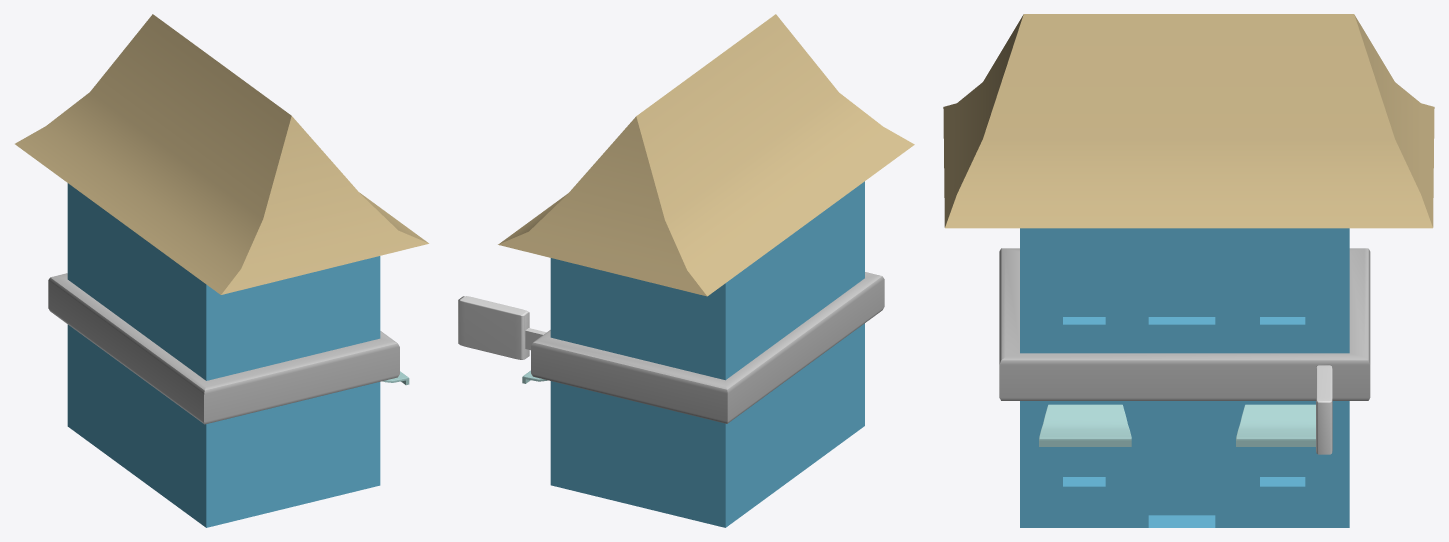
File: BuildingShort_02.fbx
3 views of the same model, side by side, from view 1: azimuth 30°, elevation 25°; view 2: azimuth 150°, elevation 25°; view 3: azimuth 270°, elevation 25° (orthographic). The views are drawn at different scales.
Parts seen in each view (by area): view 1: polySurface796; view 2: polySurface796; view 3: polySurface796.
Part boxes in pixels (<box>): polySurface796: <box>15,14,428,527</box>; polySurface796: <box>458,14,914,527</box>; polySurface796: <box>943,14,1434,527</box>.
Size of the model in its own units: 5.06 by 6.46 by 6.2.
Materials: 1 (1 with a texture image).
